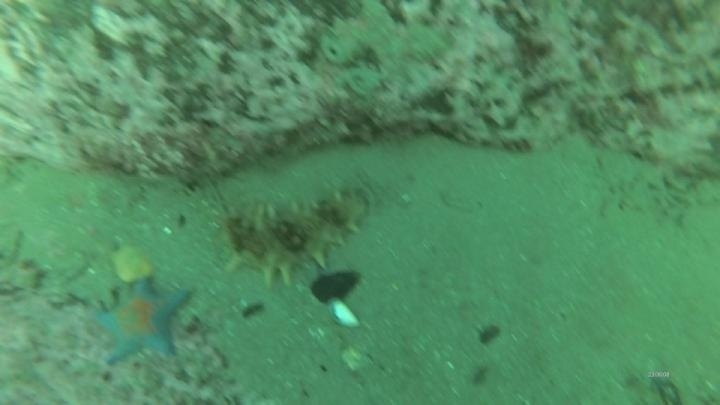holothurian: (220, 183, 374, 287)
starfish: (90, 275, 194, 369)
